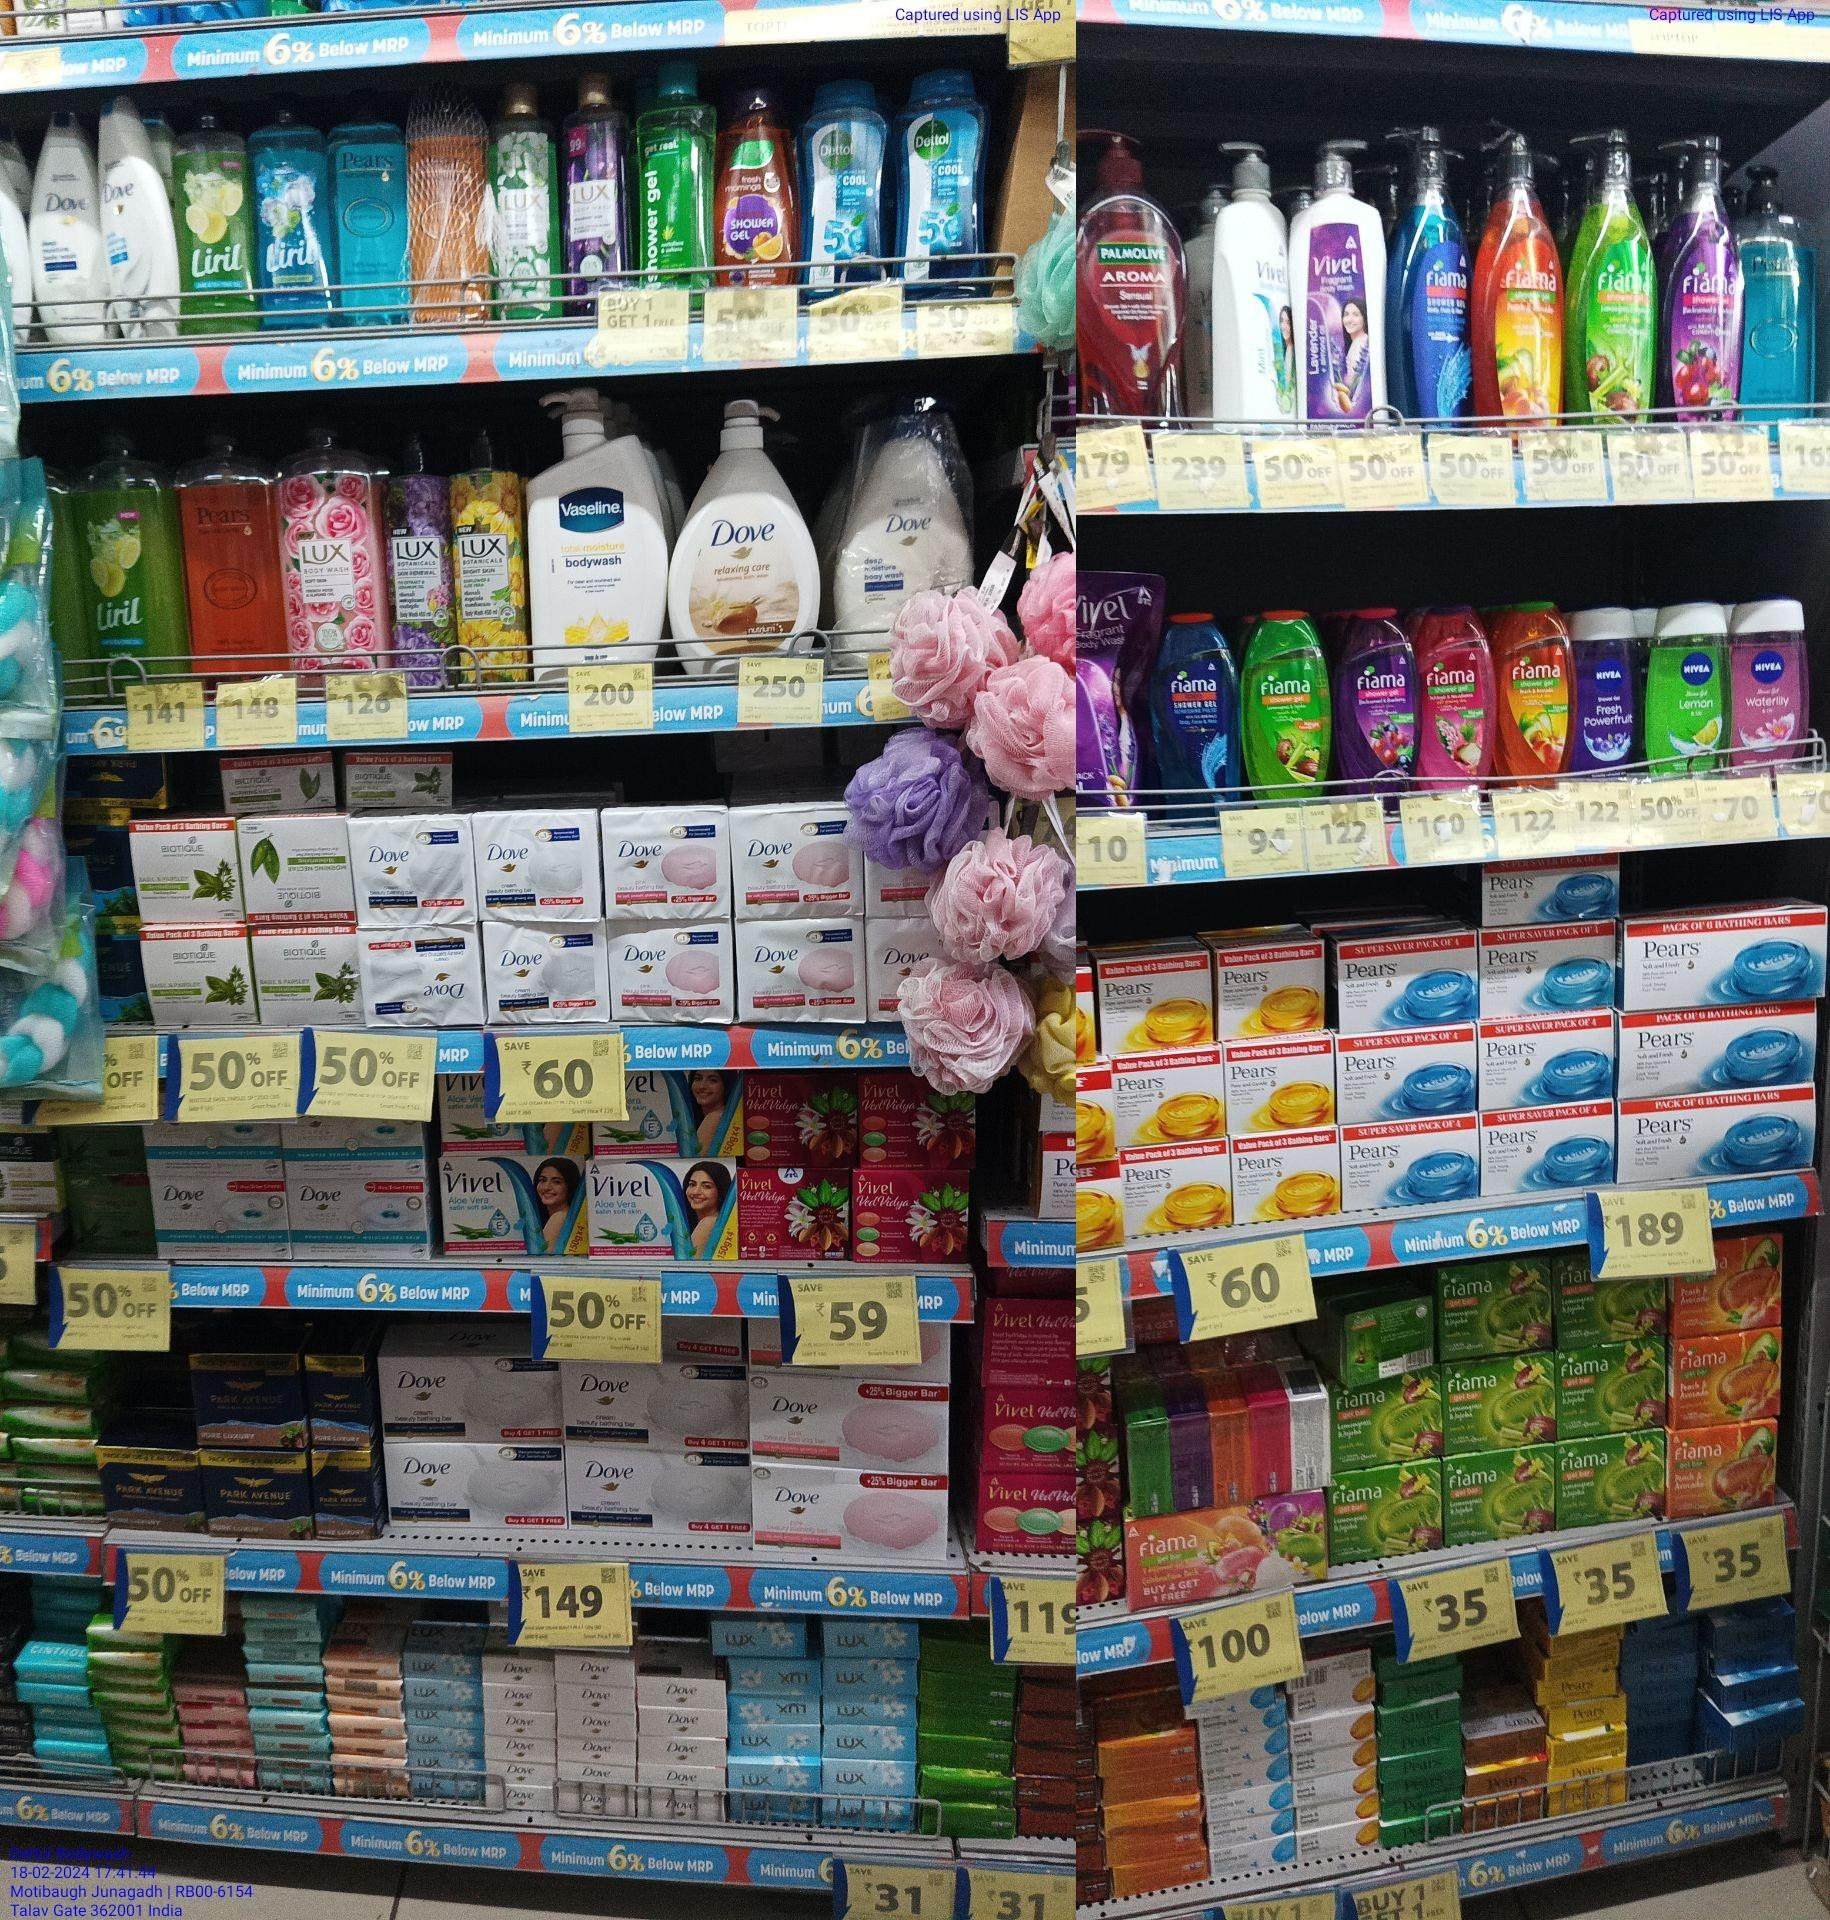Dettol_Bodywash_Cool: (898, 62, 989, 305), (807, 70, 882, 293)
Dove_Deep_Moisture_Body_Wash_250ML: (34, 108, 108, 348)
Dove_Gentle_Exfoliating_Body_Wash_250ML: (108, 94, 182, 339)
Fiama_Shower_Gel_Lemongrass_and_Jojoba_250ML: (1241, 605, 1328, 806)
Fiama_Shower_Gel_Patchouli_and_Macadamia_250ML: (1417, 605, 1492, 789)
Fiama_Shower_Gel_Peach_and_Avocado_250ML: (1496, 598, 1571, 787)
Joy_Shower_Gel_Mandarin_and_Lemongrass_250ML: (716, 82, 800, 286)
Liril_Cooling_Mint_Body_Wash_250ML: (264, 105, 332, 329)
Liril_Lime_and_Tea_Tree_Oil_Body_Wash_250ML: (183, 103, 260, 338)
Lux_Black_Orchid_Scent_and_Juniper_Oil_Body_Wash_245ML: (567, 74, 624, 315)
Lux_Body_Wash_Skin_Detox_Freesia_Scent_and_Alove_Vera_245ML: (485, 81, 567, 319)
Nivea_Shower_Gel_Fresh_Powerfruit_250ML: (1571, 605, 1638, 773)
Nivea_Shower_Gel_Lemon_and_Oil_250ML: (1645, 603, 1724, 775)
Nivea_Shower_Gel_Waterlily_and_Oil_250ML: (1731, 595, 1809, 761)
Pears_Pure_Glycerin_and_Mint_Extracts_Body_Wash_250ML: (1737, 158, 1820, 418), (334, 91, 410, 329)
